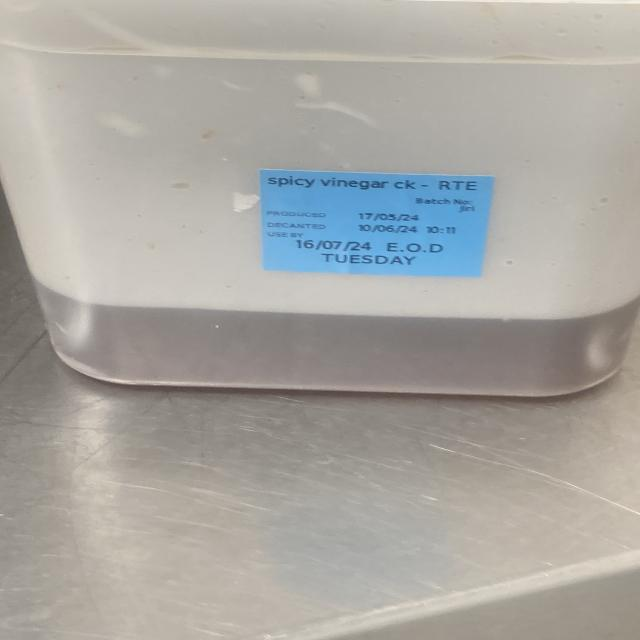product-labels: (258, 168, 495, 279)
